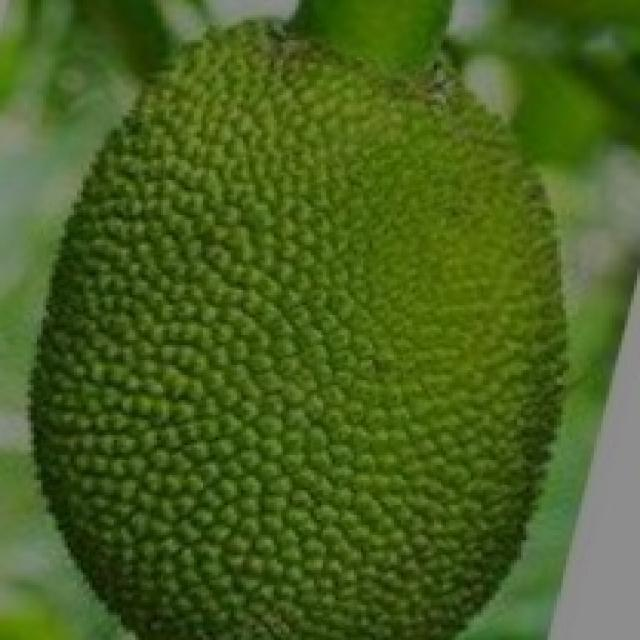Fruit: (6, 0, 406, 460), (271, 245, 637, 640), (231, 0, 640, 338), (0, 307, 375, 640)
